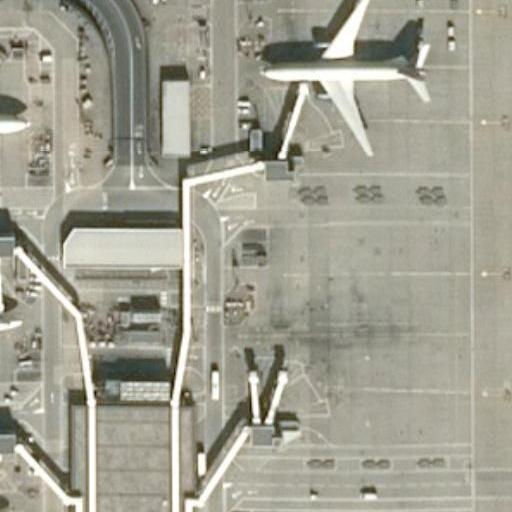Aircraft: (253, 0, 433, 158), (0, 35, 27, 209), (0, 234, 21, 409), (0, 437, 4, 512)
